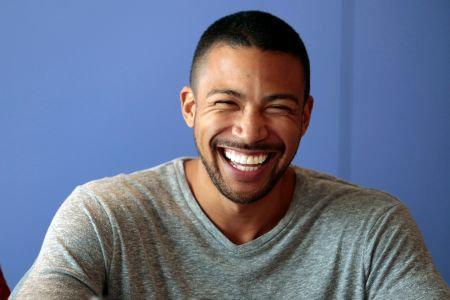Sober: (203, 51, 299, 193)
